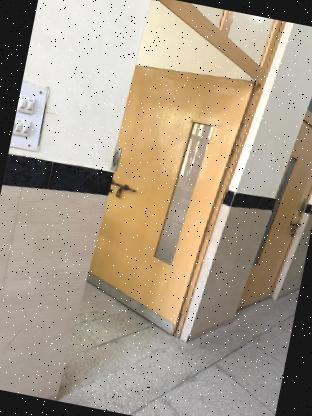door: (77, 0, 279, 353), (232, 29, 312, 320)
